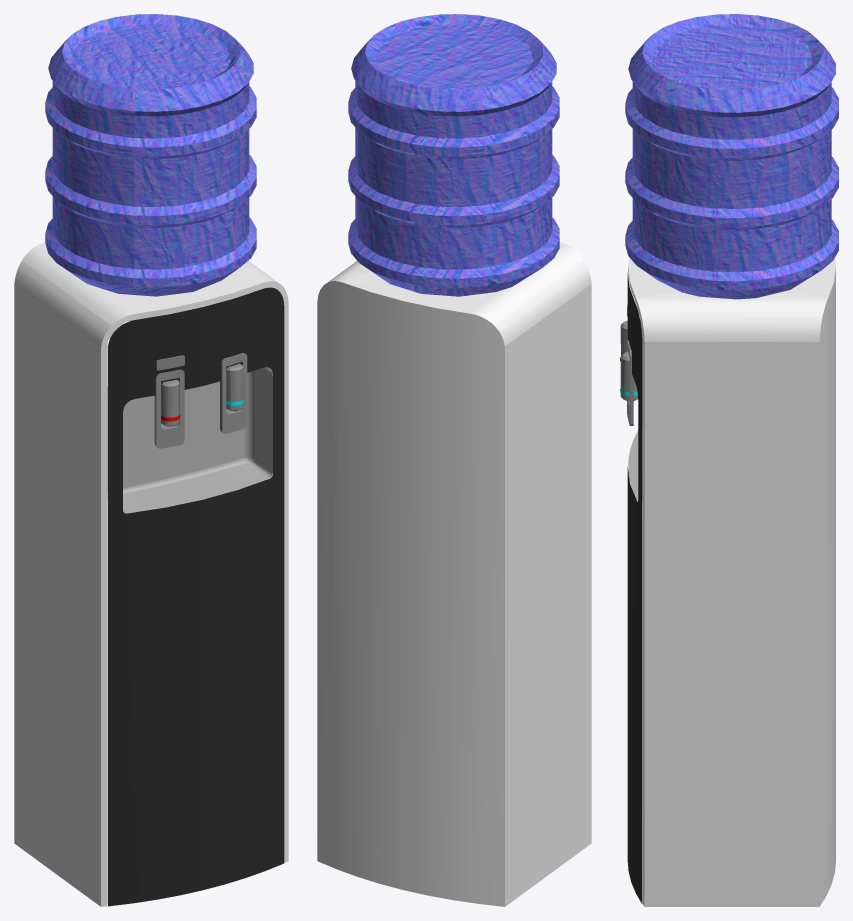
The model's file is Dispensador De Agua.glb.
The picture shows the model from 3 angles, left to right: view 1: azimuth 30°, elevation 25°; view 2: azimuth 150°, elevation 25°; view 3: azimuth 270°, elevation 25°; orthographic projection.
Visible parts, largest first — view 1: 32c99441-1d4c-45d6-86d9-75dccf50b852, 3bbe15a7-7aad-4cc9-8bc8-ad163798db62, dd12ef1c-07d2-43e3-9398-98e40ac9adde, dd12ef1c-07d2-43e3-9398-98e40ac9adde_0, 607d65df-fd0a-4c46-9e1a-3207a1467860, c04c6be2-a8e7-43ce-9ce9-218b2ea2008b, ea5d2bed-a874-4b19-aa9e-90b027633523, 55386546-e297-4337-a951-a72dbc4da673, b80a8c08-188d-4a20-9e8d-80c5b213fbf10; view 2: 3bbe15a7-7aad-4cc9-8bc8-ad163798db62, dd12ef1c-07d2-43e3-9398-98e40ac9adde, dd12ef1c-07d2-43e3-9398-98e40ac9adde_0; view 3: 3bbe15a7-7aad-4cc9-8bc8-ad163798db62, dd12ef1c-07d2-43e3-9398-98e40ac9adde, dd12ef1c-07d2-43e3-9398-98e40ac9adde_0, 32c99441-1d4c-45d6-86d9-75dccf50b852, 607d65df-fd0a-4c46-9e1a-3207a1467860, b80a8c08-188d-4a20-9e8d-80c5b213fbf10.
Part boxes in pixels (x1,y1,x2,y2): 32c99441-1d4c-45d6-86d9-75dccf50b852: [108, 287, 284, 906]; 3bbe15a7-7aad-4cc9-8bc8-ad163798db62: [14, 242, 288, 906]; dd12ef1c-07d2-43e3-9398-98e40ac9adde: [45, 14, 256, 296]; dd12ef1c-07d2-43e3-9398-98e40ac9adde_0: [46, 14, 255, 295]; 607d65df-fd0a-4c46-9e1a-3207a1467860: [107, 367, 272, 513]; c04c6be2-a8e7-43ce-9ce9-218b2ea2008b: [154, 369, 184, 448]; ea5d2bed-a874-4b19-aa9e-90b027633523: [220, 353, 247, 433]; 55386546-e297-4337-a951-a72dbc4da673: [161, 379, 179, 426]; b80a8c08-188d-4a20-9e8d-80c5b213fbf10: [226, 363, 243, 411]; 3bbe15a7-7aad-4cc9-8bc8-ad163798db62: [317, 242, 591, 906]; dd12ef1c-07d2-43e3-9398-98e40ac9adde: [348, 14, 559, 296]; dd12ef1c-07d2-43e3-9398-98e40ac9adde_0: [349, 14, 558, 295]; 3bbe15a7-7aad-4cc9-8bc8-ad163798db62: [628, 257, 835, 906]; dd12ef1c-07d2-43e3-9398-98e40ac9adde: [625, 14, 838, 299]; dd12ef1c-07d2-43e3-9398-98e40ac9adde_0: [626, 14, 838, 298]; 32c99441-1d4c-45d6-86d9-75dccf50b852: [627, 273, 642, 903]; 607d65df-fd0a-4c46-9e1a-3207a1467860: [628, 319, 642, 501]; b80a8c08-188d-4a20-9e8d-80c5b213fbf10: [620, 352, 637, 401].
Bounding box in the file's own units: 0.3498 × 1.43 × 0.3501.
Materials: 9 (1 with a texture image).
